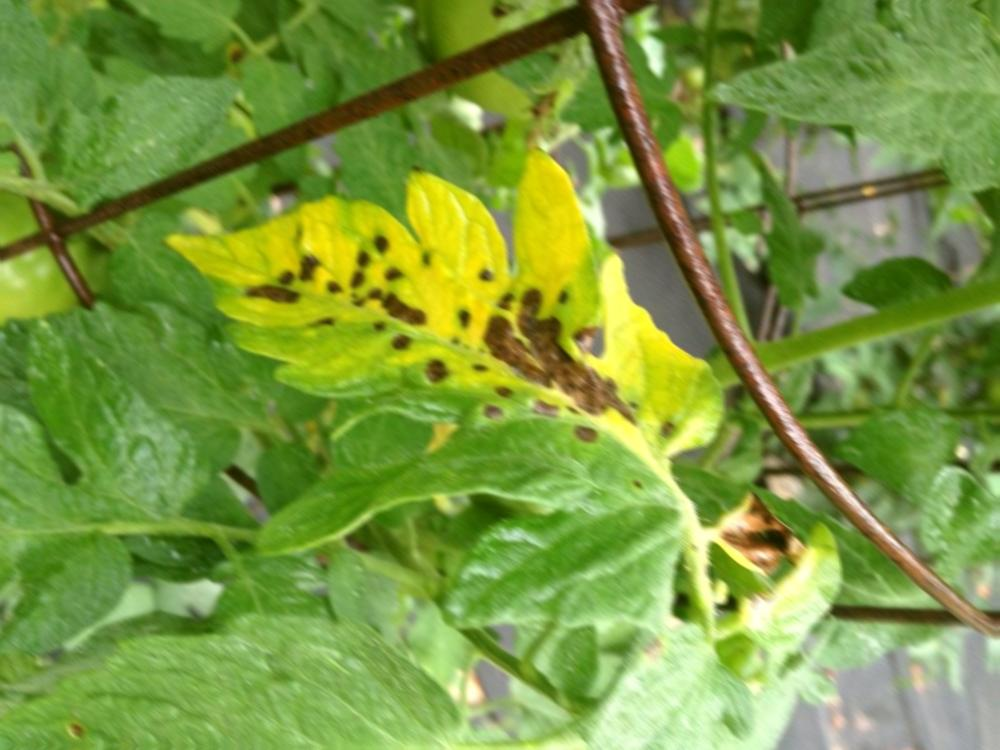Tomato leaf bacterial spot: (148, 142, 744, 490)
